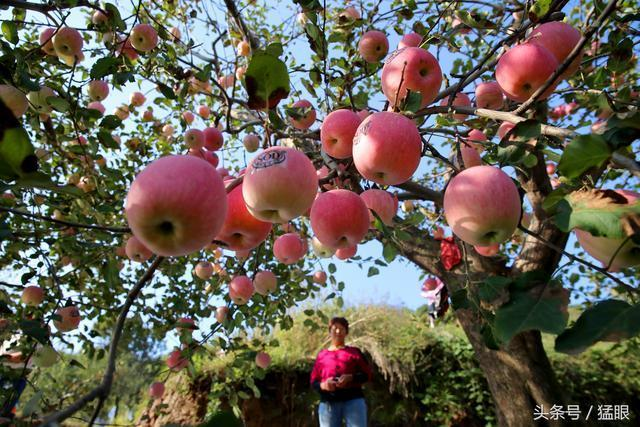apple: (120, 153, 226, 258), (441, 164, 520, 248), (240, 144, 319, 224), (351, 109, 425, 187), (381, 46, 444, 112), (495, 44, 558, 103), (311, 190, 370, 253), (214, 191, 273, 251), (530, 23, 585, 78), (319, 108, 364, 159), (357, 29, 388, 63), (272, 232, 304, 264), (474, 79, 505, 111), (52, 26, 84, 57), (128, 23, 157, 54), (286, 100, 315, 130), (51, 304, 80, 331), (228, 274, 253, 303), (253, 268, 277, 296), (20, 285, 45, 306), (185, 127, 205, 151), (202, 126, 222, 150), (240, 132, 259, 152), (89, 80, 107, 100)
